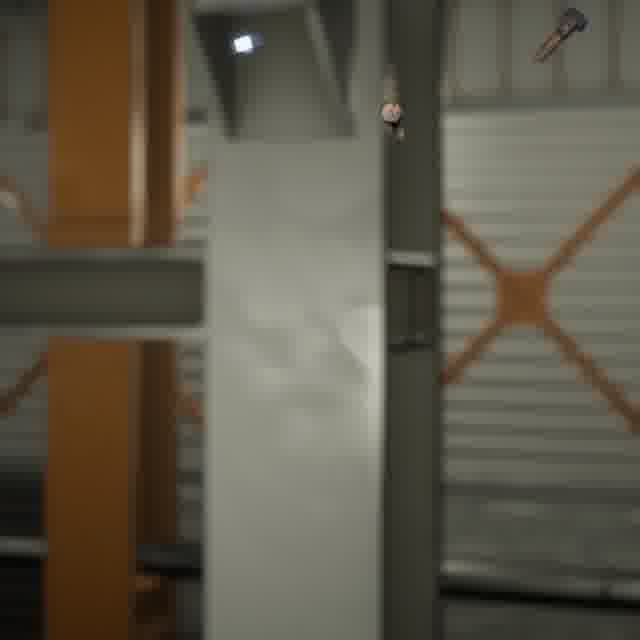bolt: (528, 3, 592, 67), (375, 97, 408, 144)
nut: (225, 29, 266, 59)
